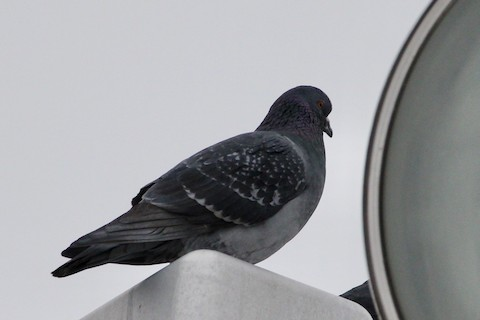pigeon: (48, 80, 337, 287)
